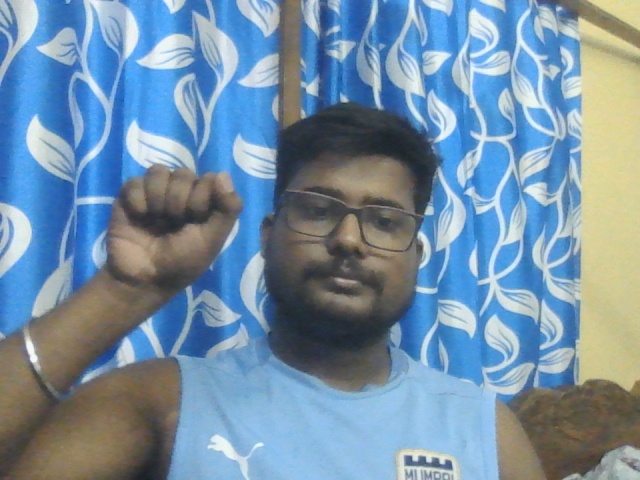A: (107, 164, 244, 281)
